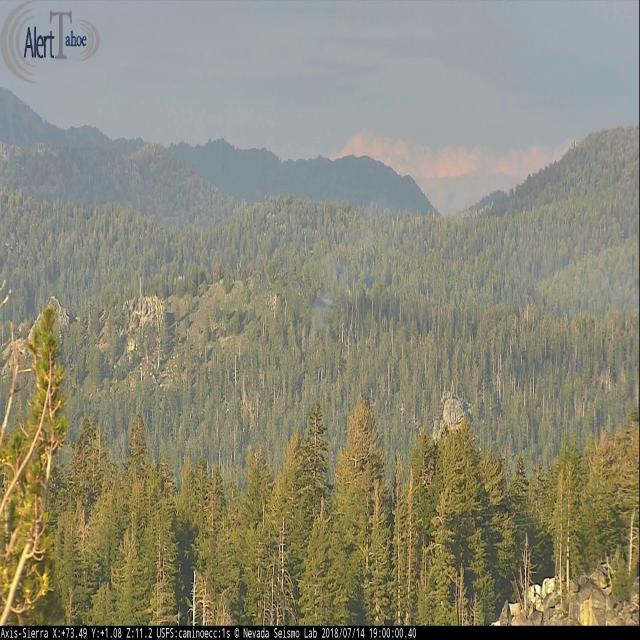smoke: (308, 190, 394, 333)
